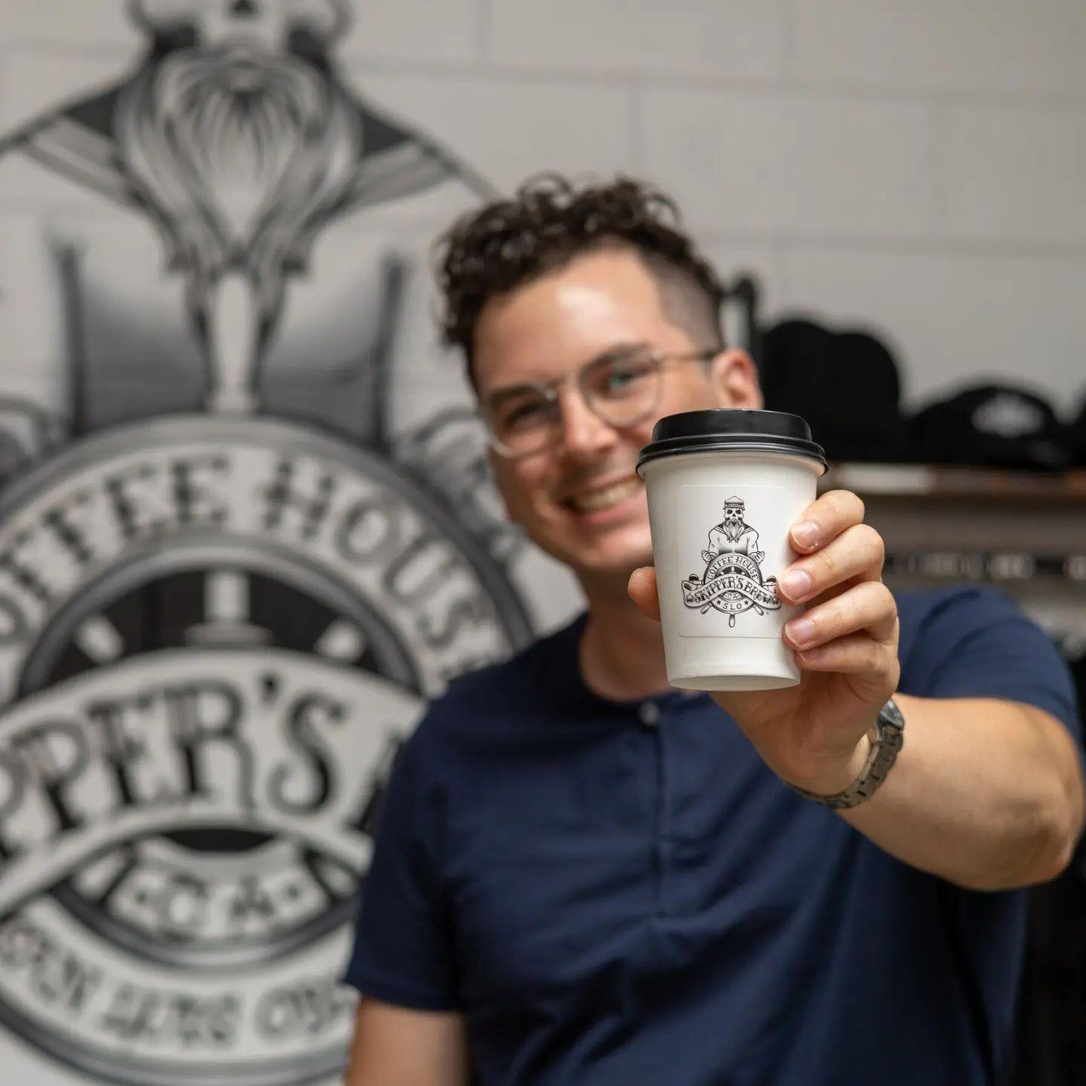cup-disposable: (640, 395, 840, 702)
